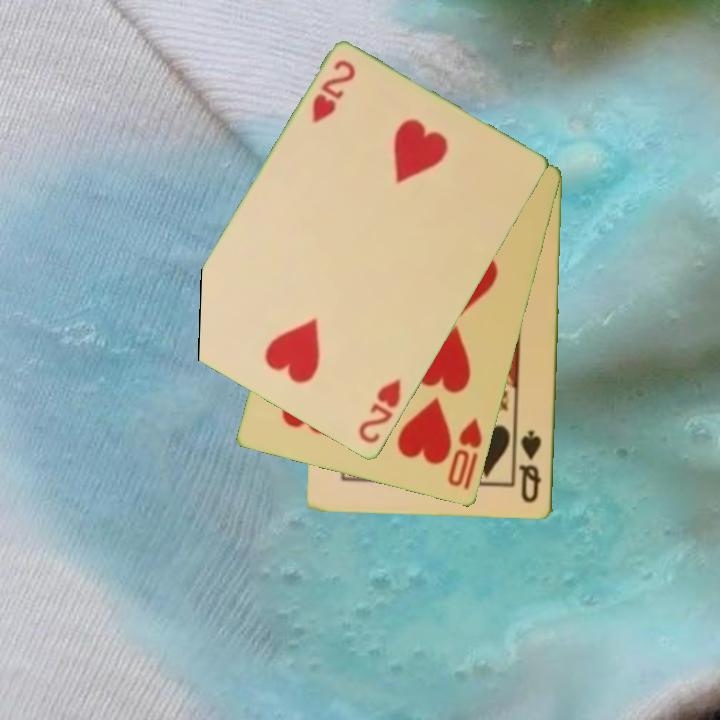10h: (444, 414, 486, 490)
2h: (355, 375, 405, 448), (308, 57, 359, 127)
Qs: (517, 427, 545, 506)
